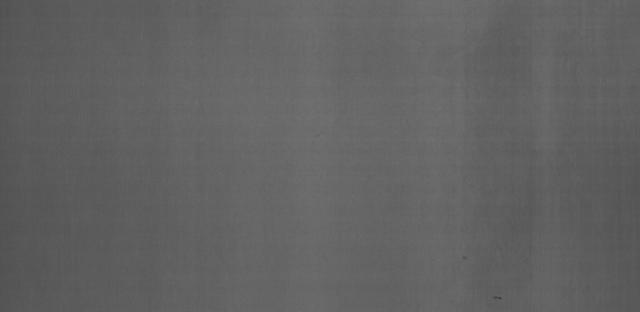inclusion: (452, 248, 473, 273), (488, 290, 509, 312)
